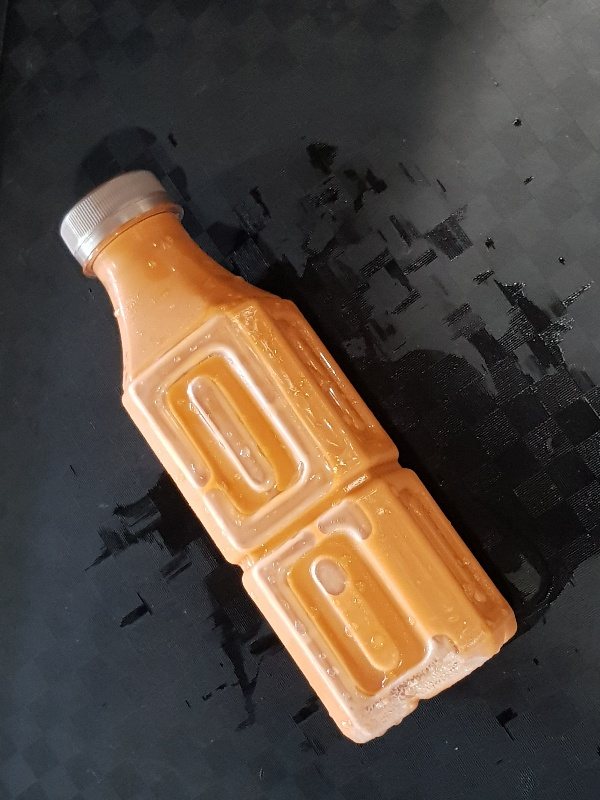Thai Milk Tea: (58, 169, 518, 745)
